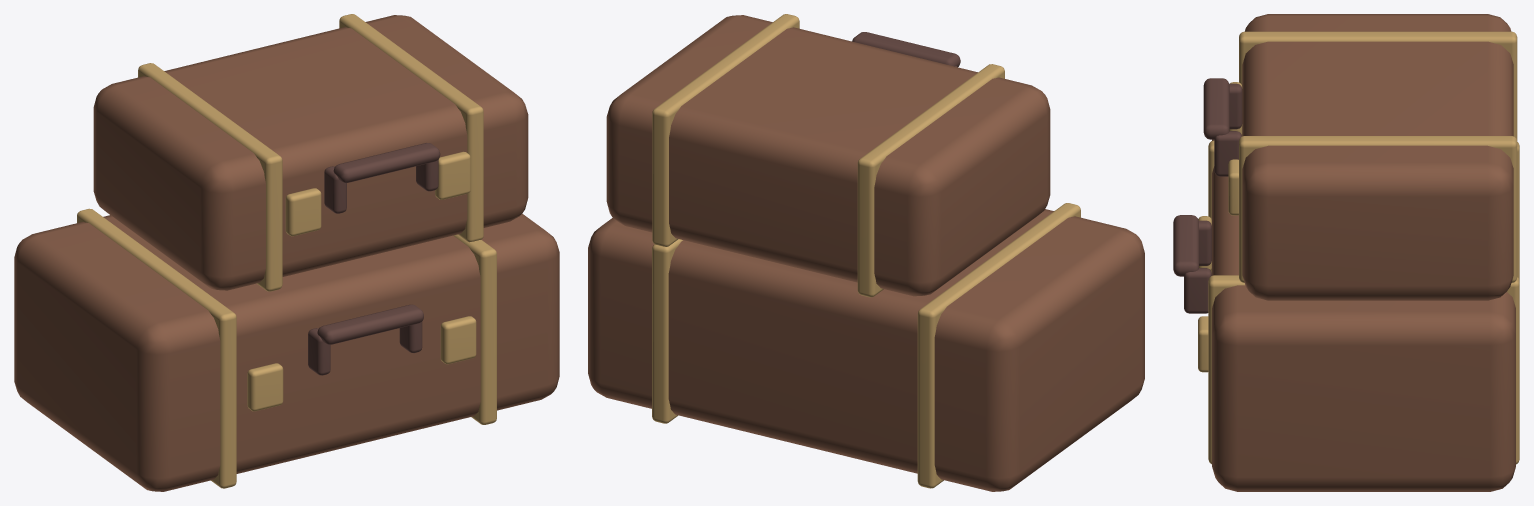
Rendered from luggage.glb.
The picture shows the model from 3 angles, left to right: view 1: azimuth 30°, elevation 25°; view 2: azimuth 150°, elevation 25°; view 3: azimuth 270°, elevation 25°; orthographic projection. The views are drawn at different scales.
Visible parts, largest first — view 1: luggage; view 2: luggage; view 3: luggage.
Part boxes in pixels (bbox=[...]): luggage: bbox=[14, 14, 559, 491]; luggage: bbox=[588, 14, 1144, 491]; luggage: bbox=[1173, 14, 1519, 491].
Bounding box in the file's own units: 1.1 × 0.765 × 0.74.
